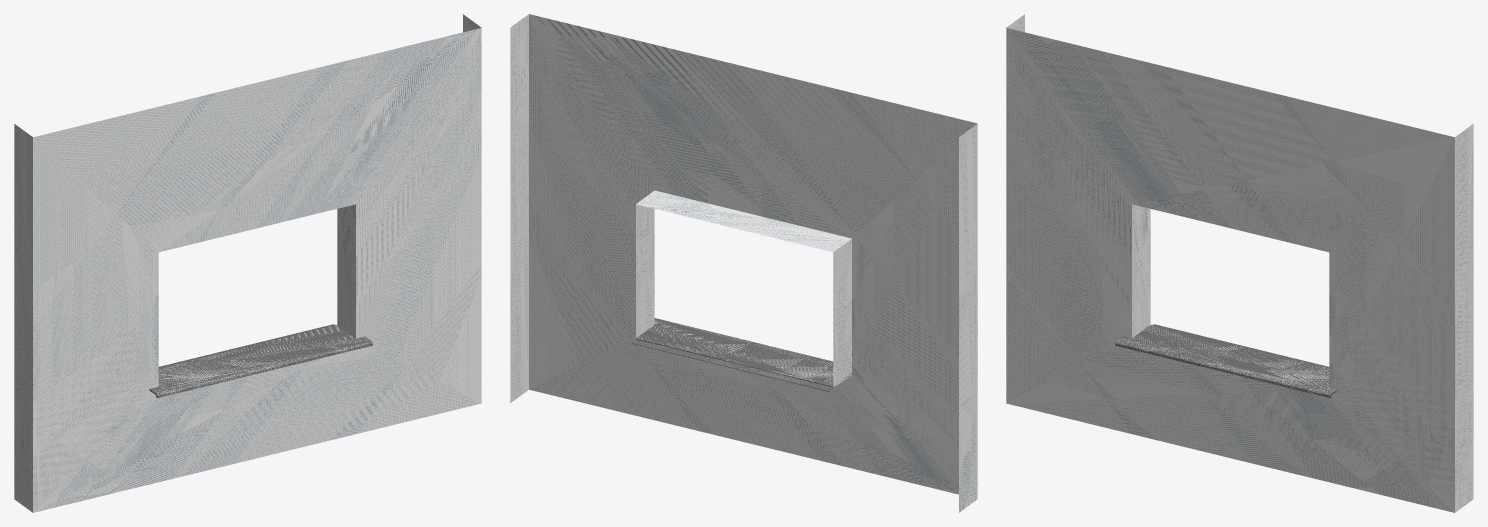
Rendered from WindowBlock_os_[500x400]_220x143x[100].dae.
3 renders of one model, left to right at view 1: azimuth 30°, elevation 25°; view 2: azimuth 150°, elevation 25°; view 3: azimuth 330°, elevation 25°, orthographic.
Visible parts, largest first — view 1: group_1 (×2), group_2; view 2: group_1 (×2), group_2 (×2); view 3: group_1 (×2), group_2.
Boxes of the visible parts, box(x1,y1,x2,y2) form: group_1 (×2): box(14, 14, 481, 512); group_2: box(149, 325, 372, 397); group_1 (×2): box(510, 14, 977, 512); group_2 (×2): box(632, 318, 853, 391); group_1 (×2): box(1006, 14, 1473, 512); group_2: box(1115, 325, 1337, 397).
Size of the model in its own units: 197 by 23.03 by 157.
